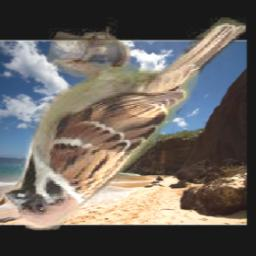Sparrow: (3, 18, 247, 231)
